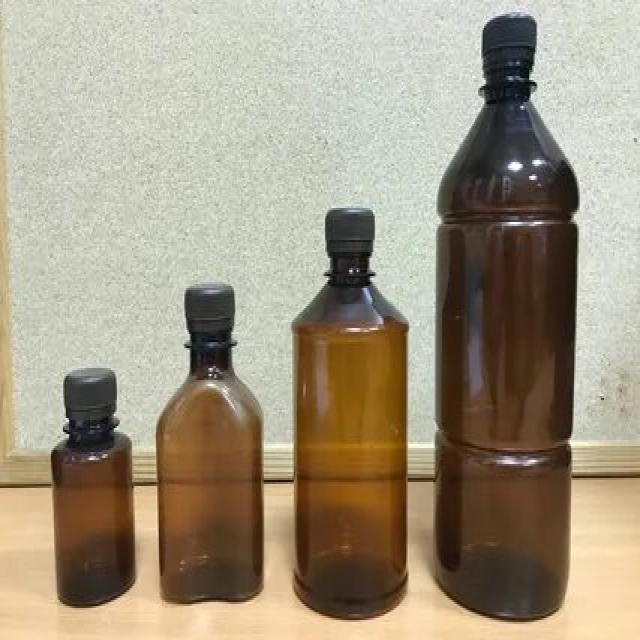brown: (434, 61, 580, 622), (292, 252, 407, 618), (155, 335, 265, 603), (50, 412, 136, 606)
